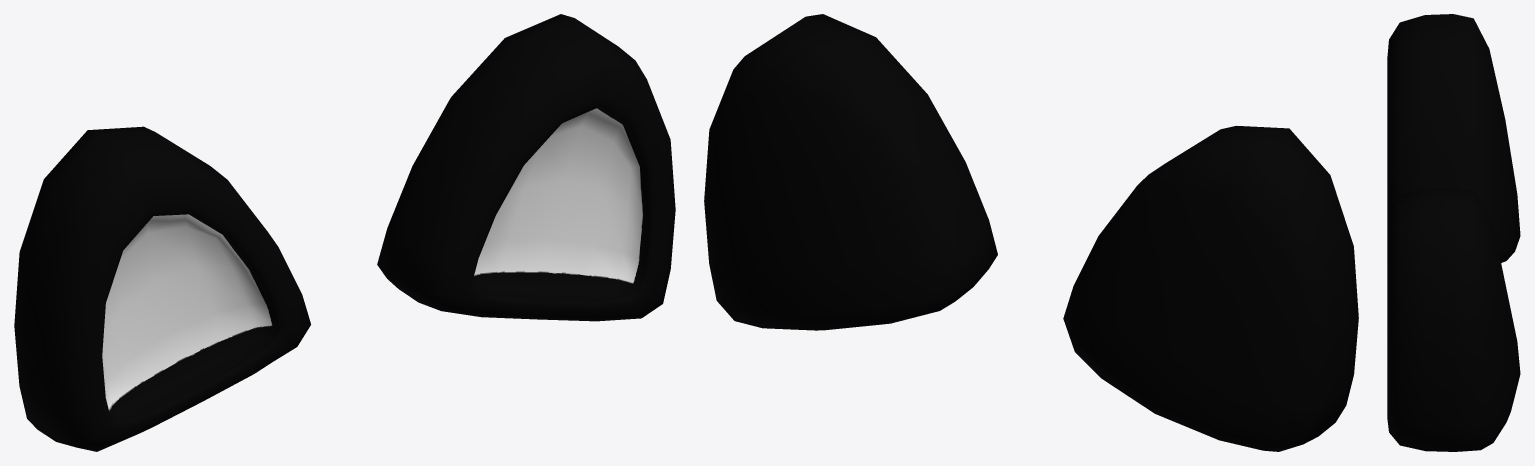
File: Cat Ears Black Hat.fbx
3 renders of one model, left to right at view 1: azimuth 30°, elevation 25°; view 2: azimuth 150°, elevation 25°; view 3: azimuth 270°, elevation 25°, orthographic. The views are drawn at different scales.
Parts seen in each view (by area): view 1: Cat Ears Black; view 2: Cat Ears Black; view 3: Cat Ears Black.
Boxes of the visible parts, x1,y1,x2,y2 form: Cat Ears Black: [14, 14, 675, 451]; Cat Ears Black: [704, 14, 1358, 451]; Cat Ears Black: [1387, 14, 1520, 451].
Bounding box in the file's own units: 1474 × 658 × 337.
Materials: 2 (2 with a texture image).
